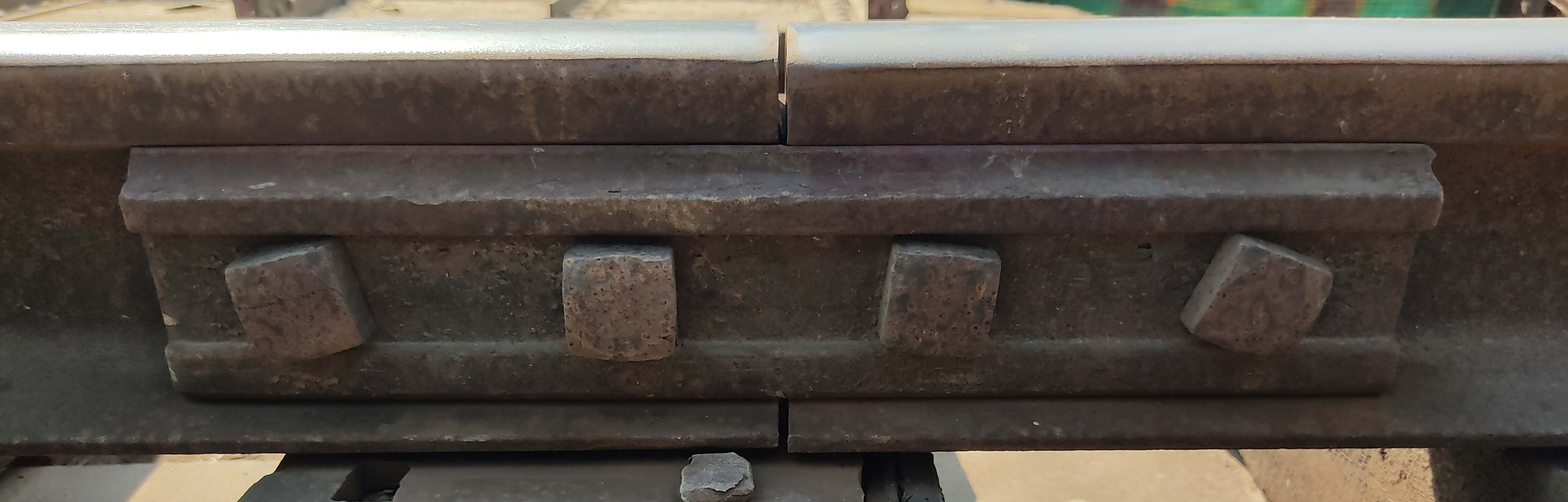duan lie: (755, 6, 817, 161)
